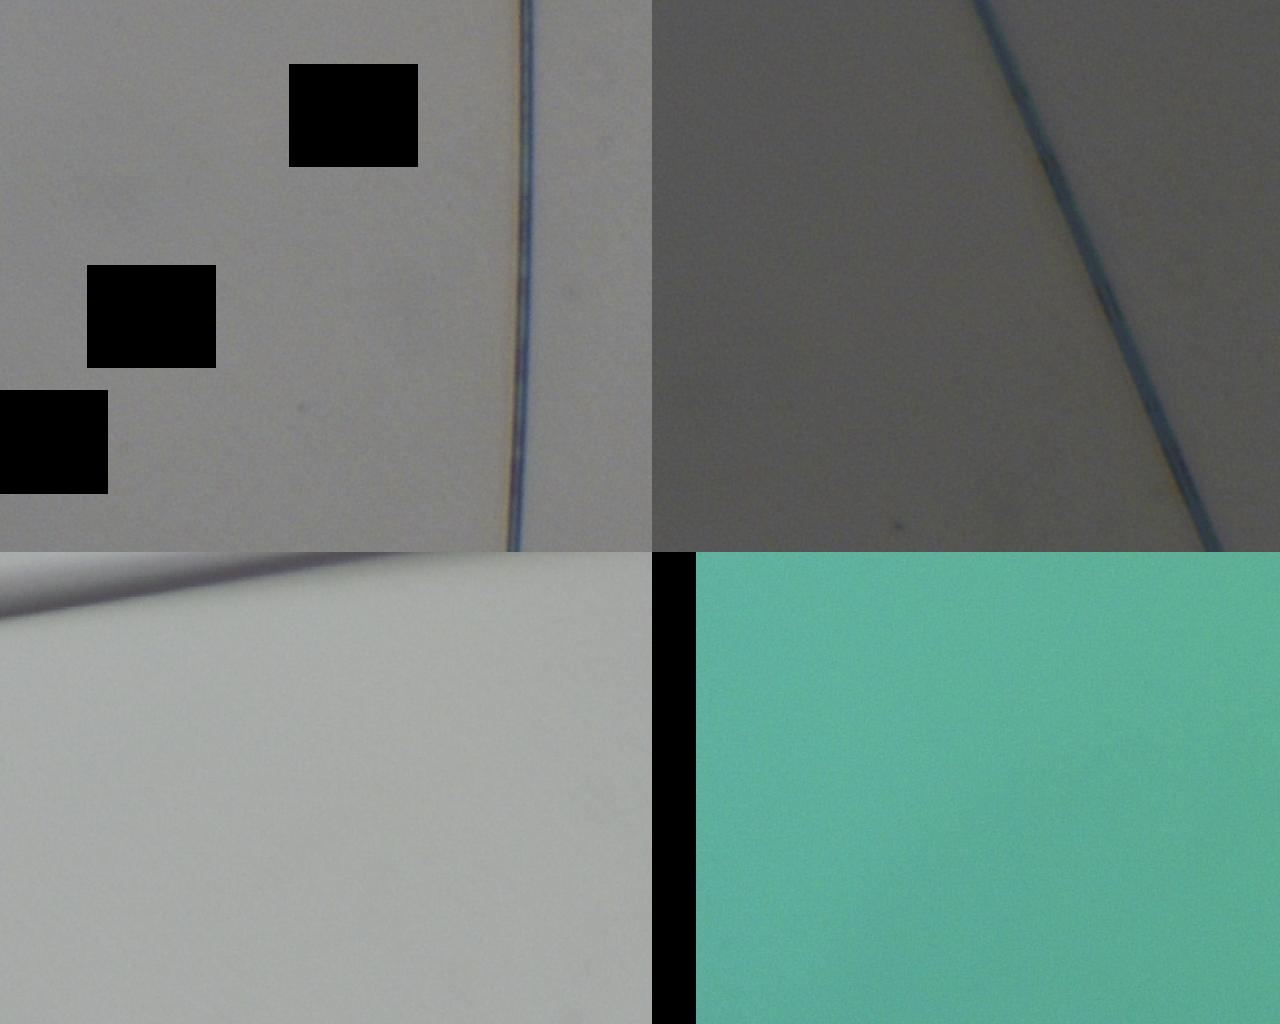fiber: (550, 406, 1280, 719), (550, 55, 852, 378), (189, 0, 376, 378), (34, 478, 550, 605)
